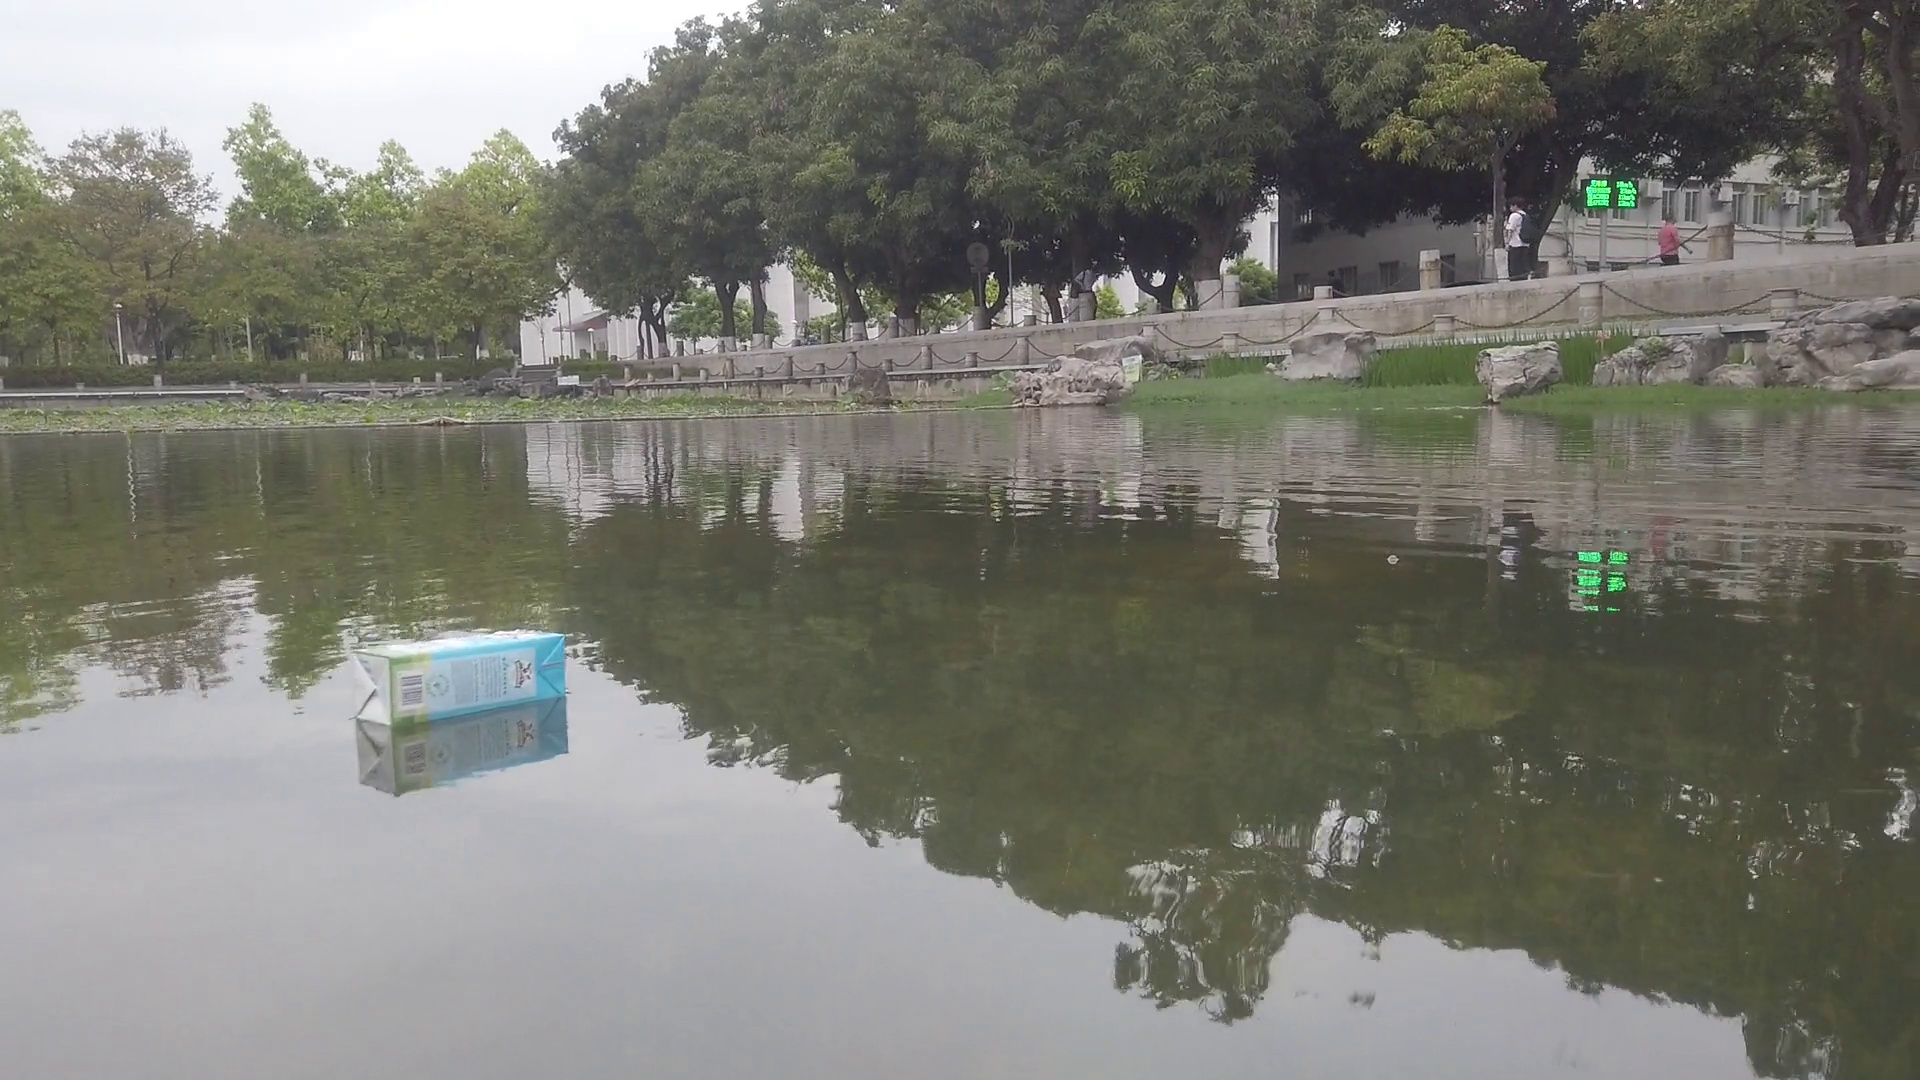carton: (353, 636, 564, 719)
